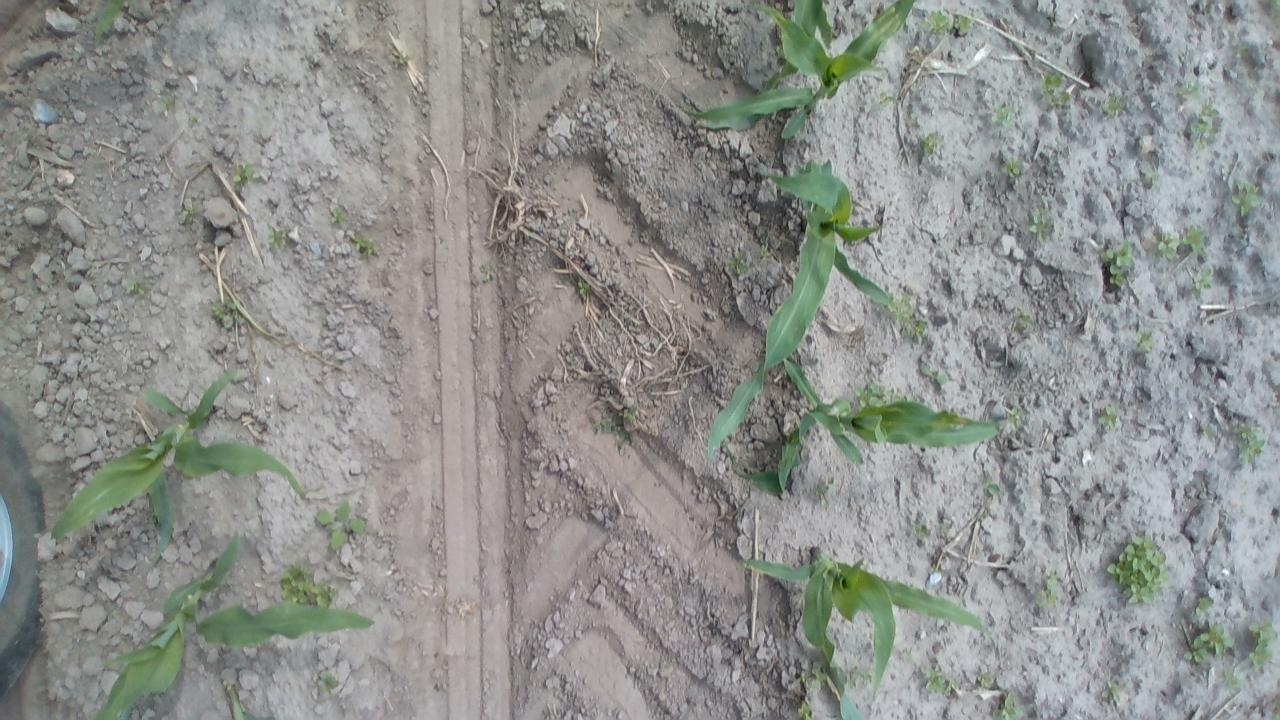Maize: (708, 154, 901, 452), (88, 526, 382, 720), (42, 370, 314, 575), (737, 544, 1000, 718), (726, 355, 1011, 498), (679, 1, 920, 136), (690, 0, 836, 133), (217, 672, 270, 720), (94, 1, 137, 44)
Weeds: (1103, 534, 1173, 608), (313, 499, 367, 551), (1184, 617, 1236, 664), (276, 558, 324, 606), (586, 410, 636, 454), (888, 292, 931, 343), (1098, 236, 1136, 289), (1188, 99, 1222, 152), (1244, 618, 1276, 672), (1033, 569, 1066, 612), (1234, 421, 1266, 465), (1230, 177, 1261, 219), (920, 666, 956, 701), (1040, 70, 1071, 108), (984, 691, 1026, 718), (1028, 206, 1056, 246), (210, 300, 243, 331), (1153, 224, 1180, 261), (1096, 674, 1128, 705), (725, 244, 754, 278), (853, 382, 896, 404), (920, 11, 954, 38), (230, 160, 258, 192), (800, 660, 828, 692), (918, 129, 946, 160), (1182, 224, 1209, 255), (125, 274, 156, 300), (919, 361, 950, 387), (1130, 326, 1158, 354), (265, 223, 291, 253), (1189, 266, 1216, 294), (1101, 91, 1128, 119), (814, 476, 836, 509), (352, 235, 381, 260), (999, 153, 1025, 180), (1190, 592, 1217, 618), (1136, 165, 1162, 191), (176, 201, 202, 227), (990, 103, 1017, 128), (980, 478, 1006, 503), (1098, 401, 1120, 430), (1001, 404, 1026, 429), (952, 12, 976, 38), (908, 518, 934, 542), (156, 90, 182, 114), (848, 665, 874, 689), (1221, 666, 1246, 689), (572, 275, 594, 300), (317, 673, 342, 695), (1175, 80, 1200, 102), (1015, 309, 1036, 335), (328, 204, 349, 229), (392, 44, 413, 67), (756, 242, 780, 262), (876, 90, 899, 110), (936, 516, 956, 538), (974, 670, 996, 690), (478, 263, 497, 285), (794, 700, 817, 718), (1234, 43, 1252, 62), (626, 404, 646, 420), (900, 644, 916, 663), (186, 112, 202, 127)
